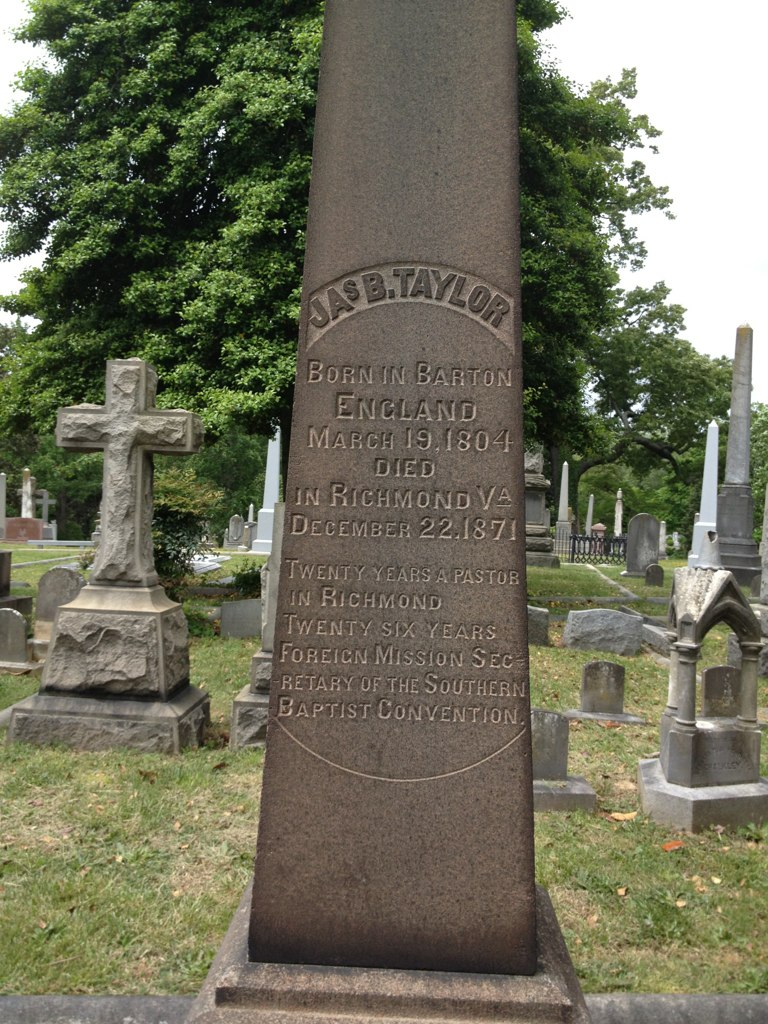obelisk: (259, 0, 542, 979)
